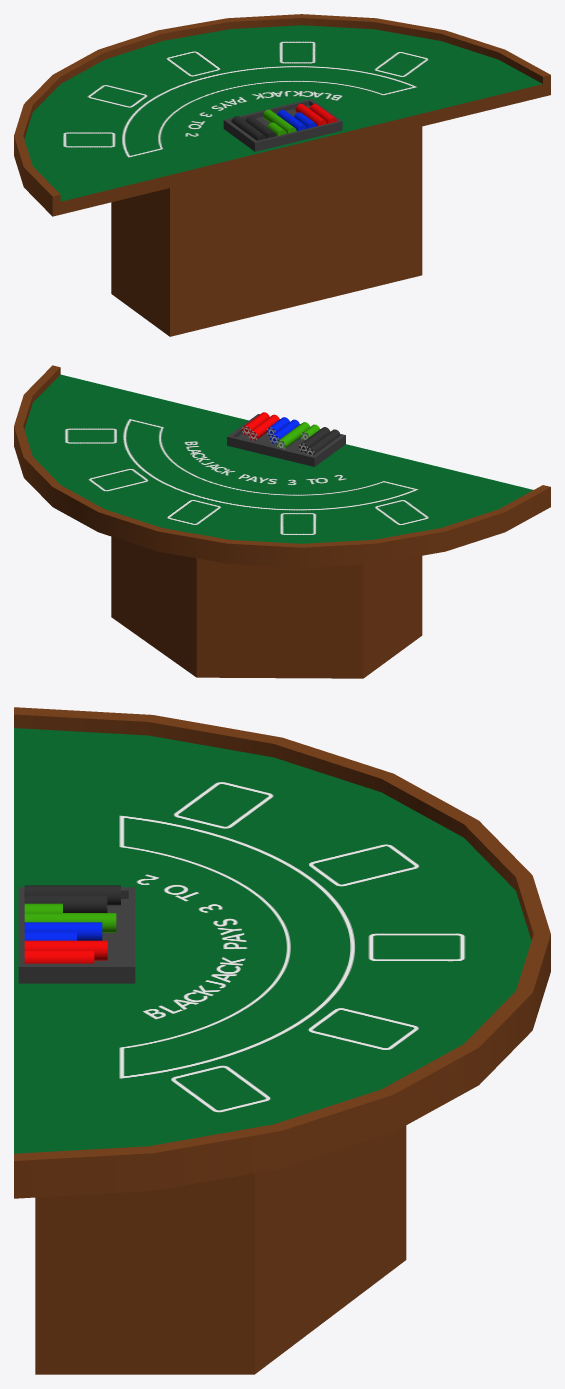
The model's file is blackjack table.fbx.
3 renders of one model, top to bottom at view 1: azimuth 30°, elevation 25°; view 2: azimuth 150°, elevation 25°; view 3: azimuth 270°, elevation 25°, orthographic. The views are drawn at different scales.
Visible parts, largest first — view 1: blackjack, chip_holder3; view 2: blackjack, chip_holder3; view 3: blackjack, chip_holder3.
Boxes of the visible parts, x1,y1,x2,y2 form: blackjack: [14, 14, 550, 336]; chip_holder3: [223, 98, 342, 151]; blackjack: [14, 365, 550, 678]; chip_holder3: [227, 412, 345, 466]; blackjack: [14, 707, 550, 1374]; chip_holder3: [18, 885, 135, 983].
Bounding box in the file's own units: 100 × 34.93 × 50.
